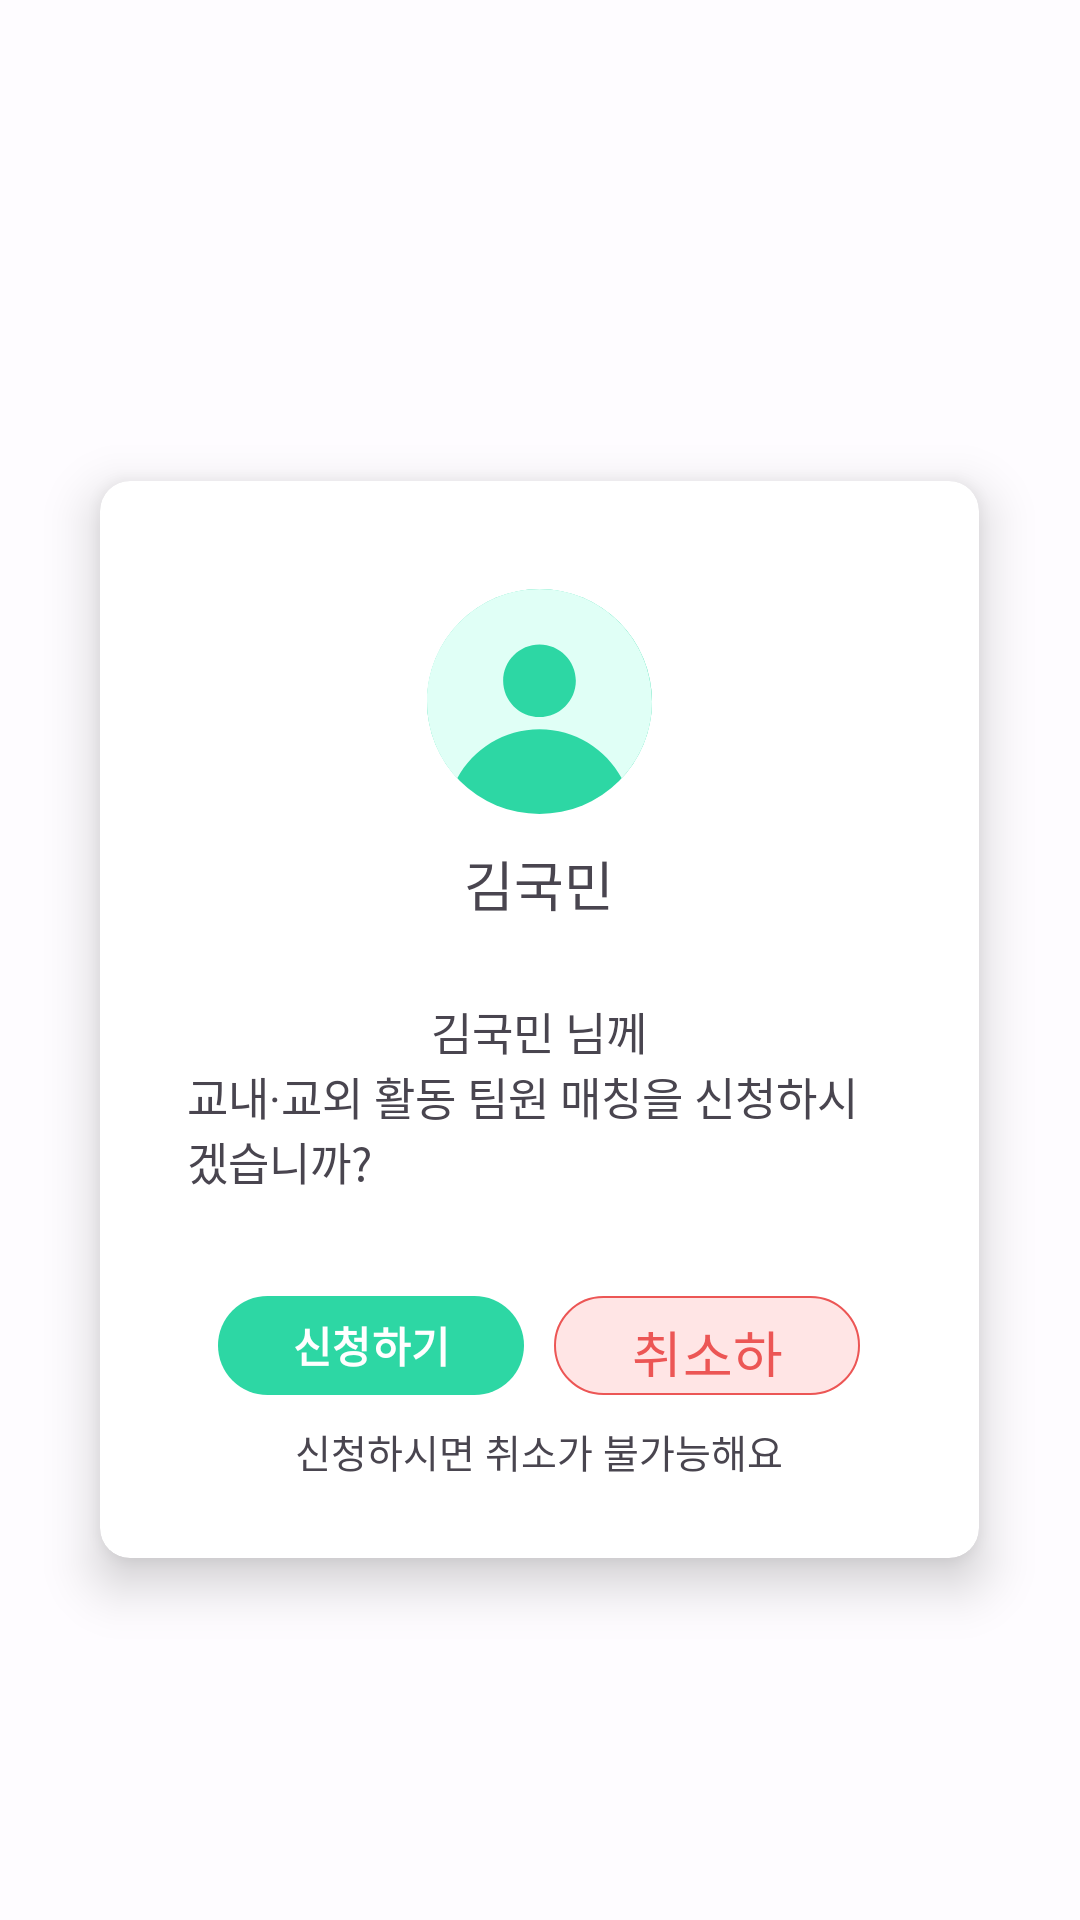

Icon bounding boxes for this 1080px x 1920px phone screenshot, format BBox(x1, y1, x2, y2):
profile reverse: BBox(427, 589, 652, 814)
